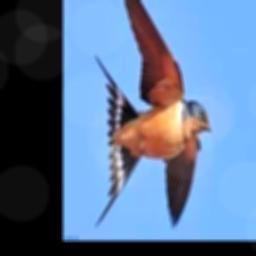Swallow: (95, 0, 215, 228)
